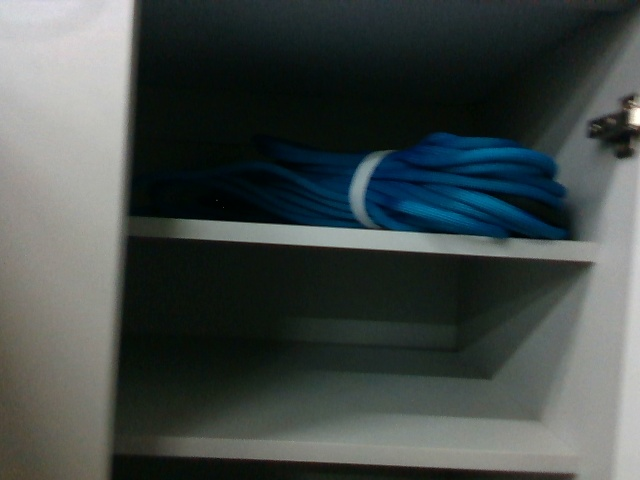rope: (207, 128, 581, 244)
